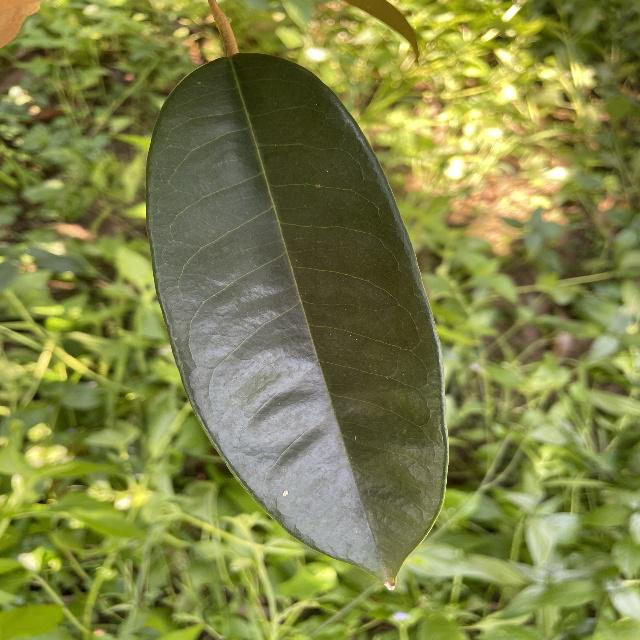No Disease: (133, 39, 461, 597)
